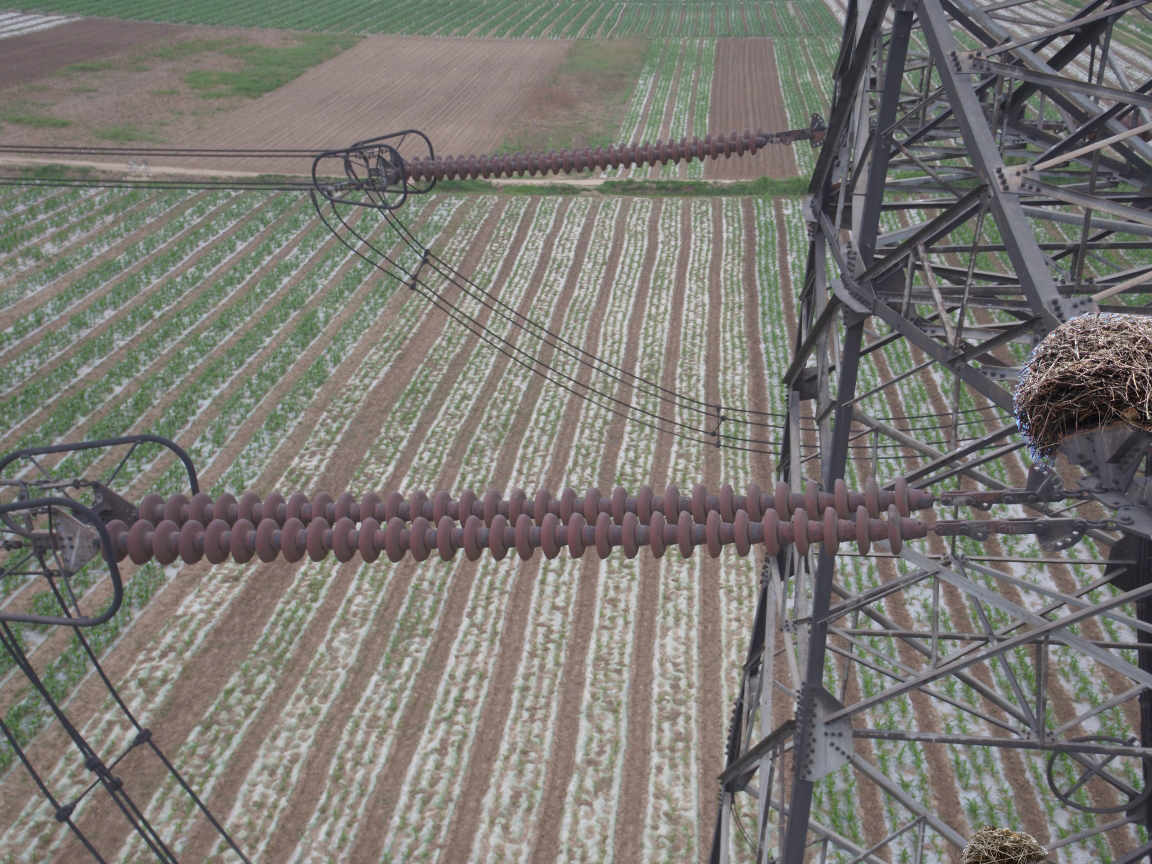nest: (1003, 315, 1149, 449), (953, 820, 1054, 863)
